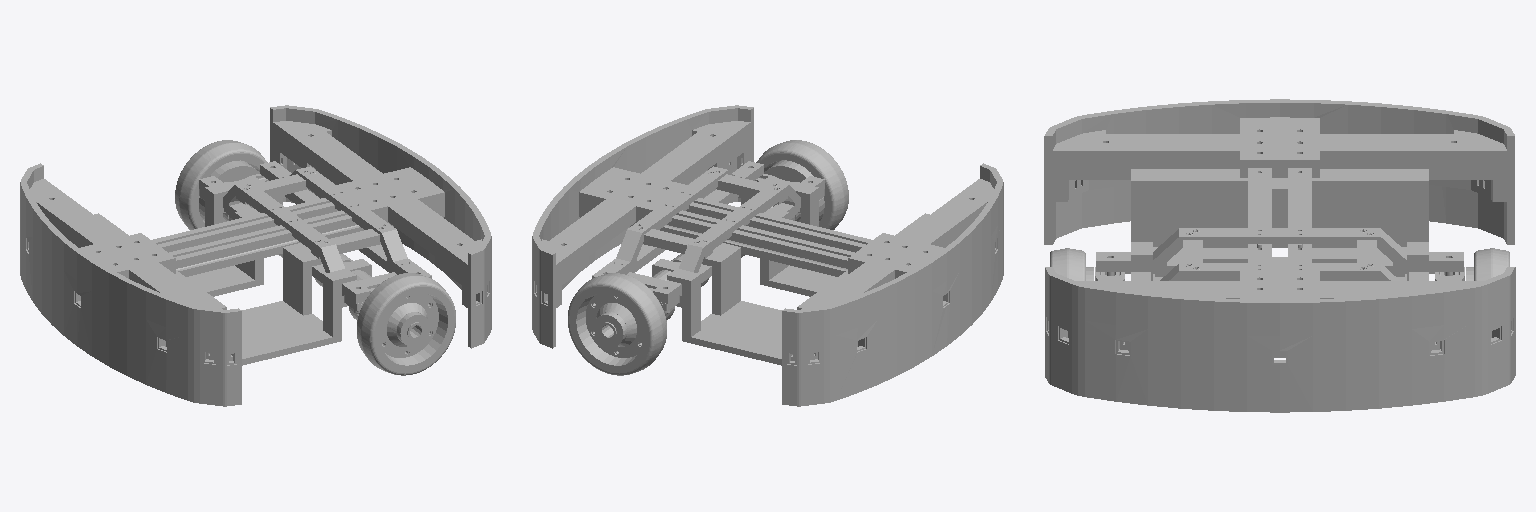
The robot description file, URDF, robot "comobot":
<?xml version="1.0" encoding="utf-8"?>
<!-- This URDF was automatically created by SolidWorks to URDF Exporter! Originally created by [author] ([email redacted]) 
     Commit Version: 1.6.0-4-g7f85cfe  Build Version: 1.6.7995.38578
     For more information, please see http://wiki.ros.org/sw_urdf_exporter -->
<robot
  name="comobot">
  <link
    name="base_link">
    <inertial>
      <origin
        xyz="-0.0178929341348187 0.00617227578586497 0.0649453185184938"
        rpy="0 0 0" />
      <mass
        value="9.3352790819242" />
      <inertia
        ixx="0.0628143238612103"
        ixy="-6.93593528960888E-05"
        ixz="0.000683337399392882"
        iyy="0.0291145257808782"
        iyz="-3.57527382468155E-11"
        izz="0.0825233943729038" />
    </inertial>
    <visual>
      <origin
        xyz="0 0 0"
        rpy="0 0 0" />
      <geometry>
        <mesh
          filename="package://comobot/meshes/base_link.STL" />
      </geometry>
      <material
        name="">
        <color
          rgba="0.752941176470588 0.752941176470588 0.752941176470588 1" />
      </material>
    </visual>
    <collision>
      <origin
        xyz="0 0 0"
        rpy="0 0 0" />
      <geometry>
        <mesh
          filename="package://comobot/meshes/base_link.STL" />
      </geometry>
    </collision>
  </link>
  <link
    name="wheel_R">
    <inertial>
      <origin
        xyz="-0.00025939 -0.082206 -0.00044757"
        rpy="0 0 0" />
      <mass
        value="0.65908" />
      <inertia
        ixx="0.0010518"
        ixy="-1.0673E-12"
        ixz="2.3608E-07"
        iyy="0.0018786"
        iyz="-6.4787E-08"
        izz="0.0010521" />
    </inertial>
    <visual>
      <origin
        xyz="0 0 0"
        rpy="0 0 0" />
      <geometry>
        <mesh
          filename="package://comobot/meshes/wheel_R.STL" />
      </geometry>
      <material
        name="">
        <color
          rgba="0.75294 0.75294 0.75294 1" />
      </material>
    </visual>
    <collision>
      <origin
        xyz="0 0 0"
        rpy="0 0 0" />
      <geometry>
        <mesh
          filename="package://comobot/meshes/wheel_R.STL" />
      </geometry>
    </collision>
  </link>
  <joint
    name="joint_R"
    type="continuous">
    <origin
      xyz="0.1 -0.16933 0.036922"
      rpy="0 0 0" />
    <parent
      link="base_link" />
    <child
      link="wheel_R" />
    <axis
      xyz="0 1 0" />
  </joint>
  <link
    name="wheel_L">
    <inertial>
      <origin
        xyz="0.00025939 0.082206 -0.00044757"
        rpy="0 0 0" />
      <mass
        value="0.65908" />
      <inertia
        ixx="0.0010518"
        ixy="-1.0673E-12"
        ixz="-2.3608E-07"
        iyy="0.0018786"
        iyz="6.4787E-08"
        izz="0.0010521" />
    </inertial>
    <visual>
      <origin
        xyz="0 0 0"
        rpy="0 0 0" />
      <geometry>
        <mesh
          filename="package://comobot/meshes/wheel_L.STL" />
      </geometry>
      <material
        name="">
        <color
          rgba="0.75294 0.75294 0.75294 1" />
      </material>
    </visual>
    <collision>
      <origin
        xyz="0 0 0"
        rpy="0 0 0" />
      <geometry>
        <mesh
          filename="package://comobot/meshes/wheel_L.STL" />
      </geometry>
    </collision>
  </link>
  <joint
    name="joint_L"
    type="continuous">
    <origin
      xyz="0.1 0.18167 0.036922"
      rpy="0 0 0" />
    <parent
      link="base_link" />
    <child
      link="wheel_L" />
    <axis
      xyz="0 1 0" />
  </joint>
  
  <!-- <gazebo>
    <plugin name="gazebo_ros_control" filename="libgazebo_ros_control.so">
    <robotNamespace>/</robotNamespace>
    </plugin>
  </gazebo> -->

</robot>

--- Render facts (derived) ---
3 views of the same robot in one strip: view 1: azimuth 30°, elevation 25°; view 2: azimuth 150°, elevation 25°; view 3: azimuth 270°, elevation 25° (orthographic).
Robot: comobot — 3 links, 2 joints (2 continuous); root link base_link; default pose: all joints at 0.
Visible links, largest first — view 1: base_link, wheel_R, wheel_L; view 2: base_link, wheel_L, wheel_R; view 3: base_link, wheel_R, wheel_L.
Link boxes in pixels (left/top/right/bottom): base_link: left=20, top=105, right=491, bottom=406; wheel_R: left=357, top=273, right=455, bottom=375; wheel_L: left=175, top=140, right=267, bottom=229; base_link: left=532, top=105, right=1003, bottom=406; wheel_L: left=568, top=273, right=666, bottom=375; wheel_R: left=756, top=140, right=848, bottom=229; base_link: left=1044, top=99, right=1515, bottom=412; wheel_R: left=1050, top=248, right=1093, bottom=280; wheel_L: left=1466, top=248, right=1509, bottom=280.
Bounding box of the posed robot: 0.5991 × 0.5851 × 0.1773 m (x, y, z).
Meshes: 3 distinct files referenced, 3 mesh visuals loaded (3 binary STL).
